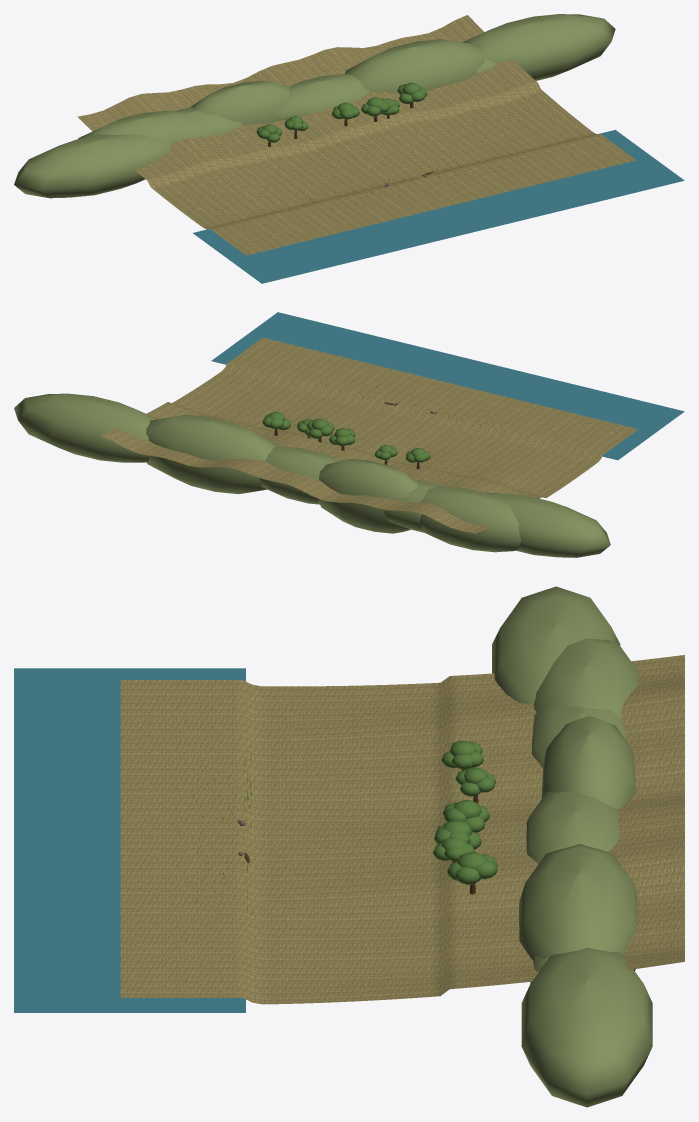
The model's file is fleuve.glb.
3 renders of one model, top to bottom at view 1: azimuth 30°, elevation 25°; view 2: azimuth 150°, elevation 25°; view 3: azimuth 270°, elevation 25°, orthographic. The views are drawn at different scales.
Parts seen in each view (by area): view 1: sol, decor, eau; view 2: sol, decor, eau; view 3: sol, decor, eau.
Part boxes in pixels (x1,y1,x2,y2): sol: (77,15,636,255); decor: (14,14,615,209); eau: (193,130,684,283); sol: (100,337,638,533); decor: (14,380,610,557); eau: (211,312,684,460); sol: (120,655,684,1004); decor: (189,586,652,1107); eau: (14,668,245,1012).
Size of the model in its own units: 188 by 19.8 by 107.
10 materials, 1 textured.
